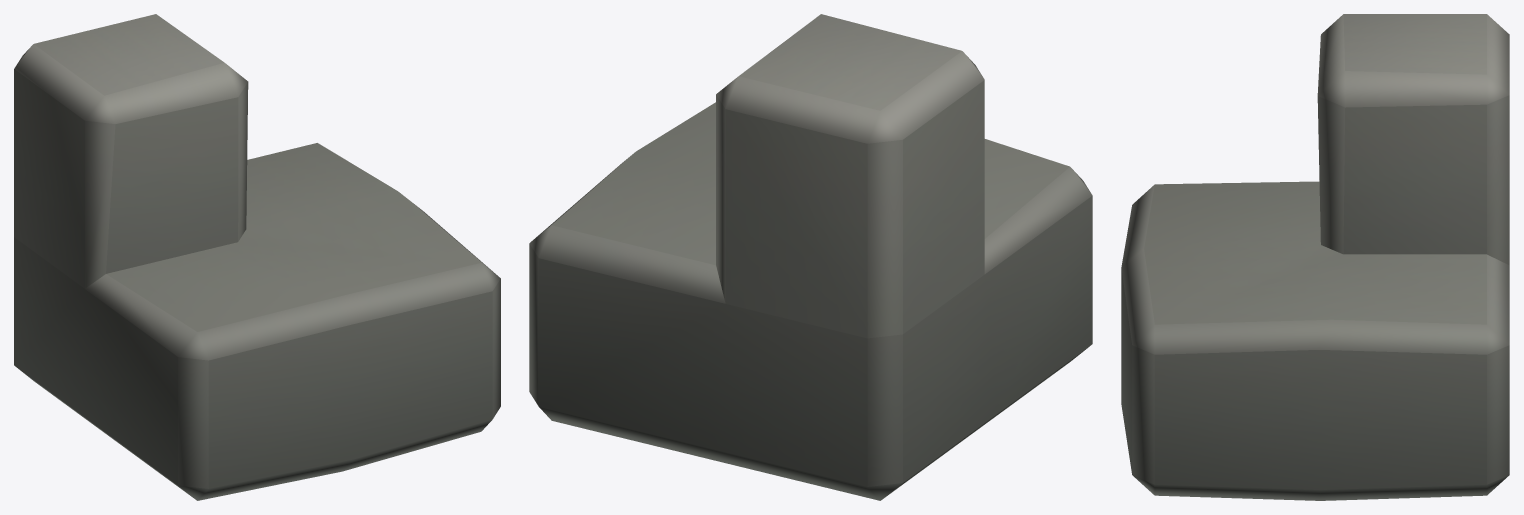
File: stair_corner_conv_shade_2.fbx
3 views of the same model, side by side, from view 1: azimuth 30°, elevation 25°; view 2: azimuth 150°, elevation 25°; view 3: azimuth 270°, elevation 25° (orthographic). The views are drawn at different scales.
Parts seen in each view (by area): view 1: stair_corner_conv_shade_2; view 2: stair_corner_conv_shade_2; view 3: stair_corner_conv_shade_2.
Part boxes in pixels (x1=…): stair_corner_conv_shade_2: x1=14, y1=14, x2=500, y2=500; stair_corner_conv_shade_2: x1=529, y1=14, x2=1092, y2=500; stair_corner_conv_shade_2: x1=1121, y1=14, x2=1509, y2=500.
Size of the model in its own units: 50.88 by 50.69 by 51.43.
